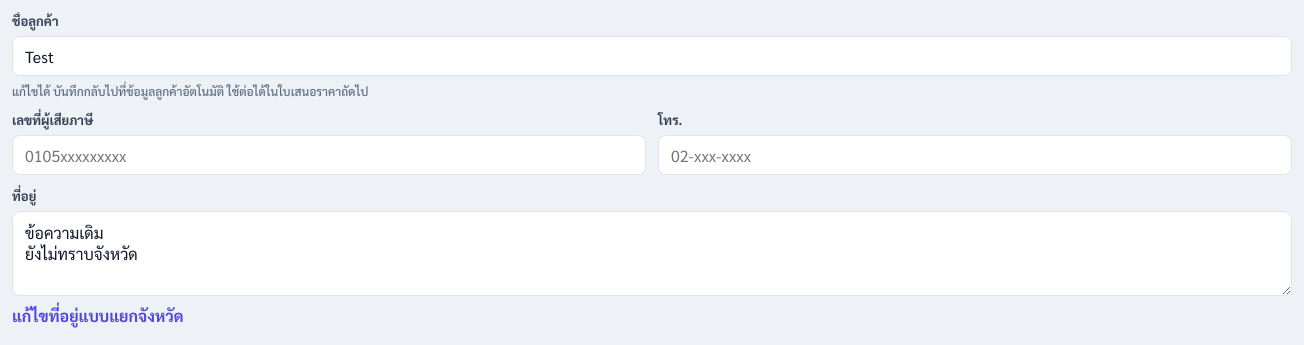
Scenario: a blank name is refused by the server and rolled back
This screenshot has width=1304, height=345.
Clear the field labelled "ชื่อลูกค้า" at (652, 56), box [12, 36, 1292, 76]
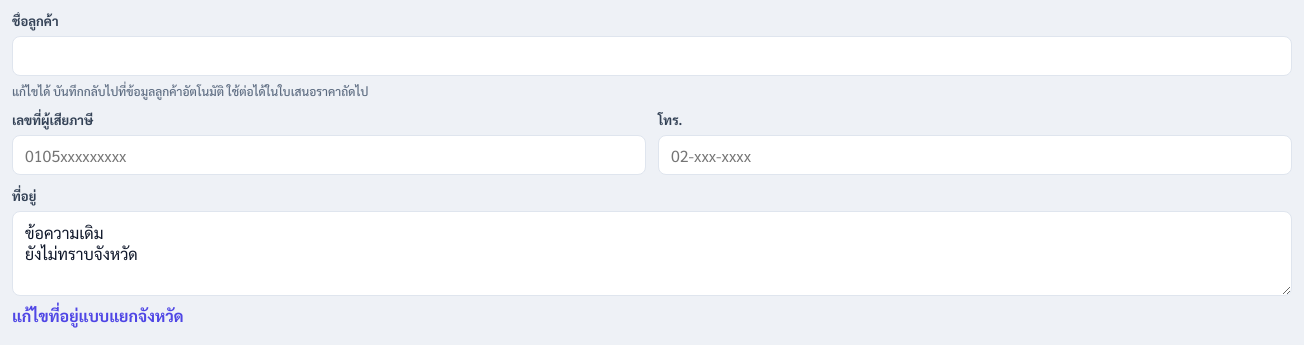
Leave the field labelled "ชื่อลูกค้า", box [12, 36, 1292, 76]
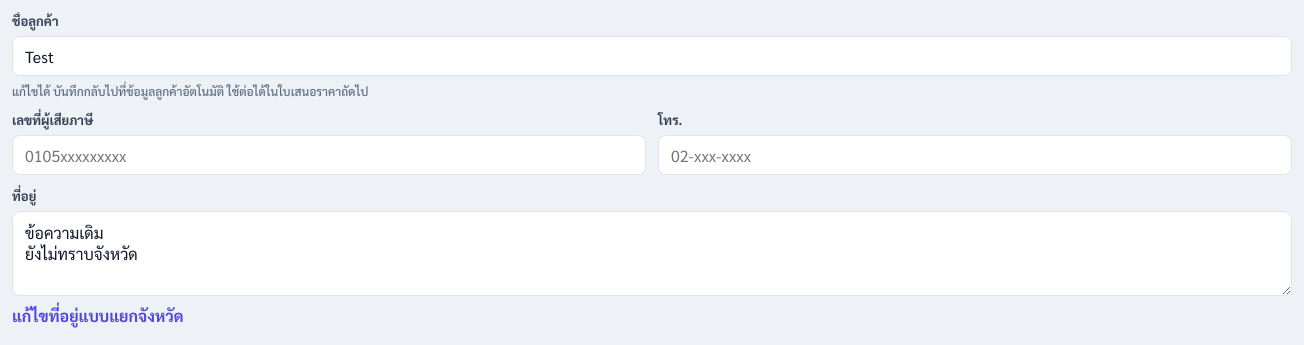
Result: the field labelled "ชื่อลูกค้า" holds "Test" at [12, 36, 1292, 76]
